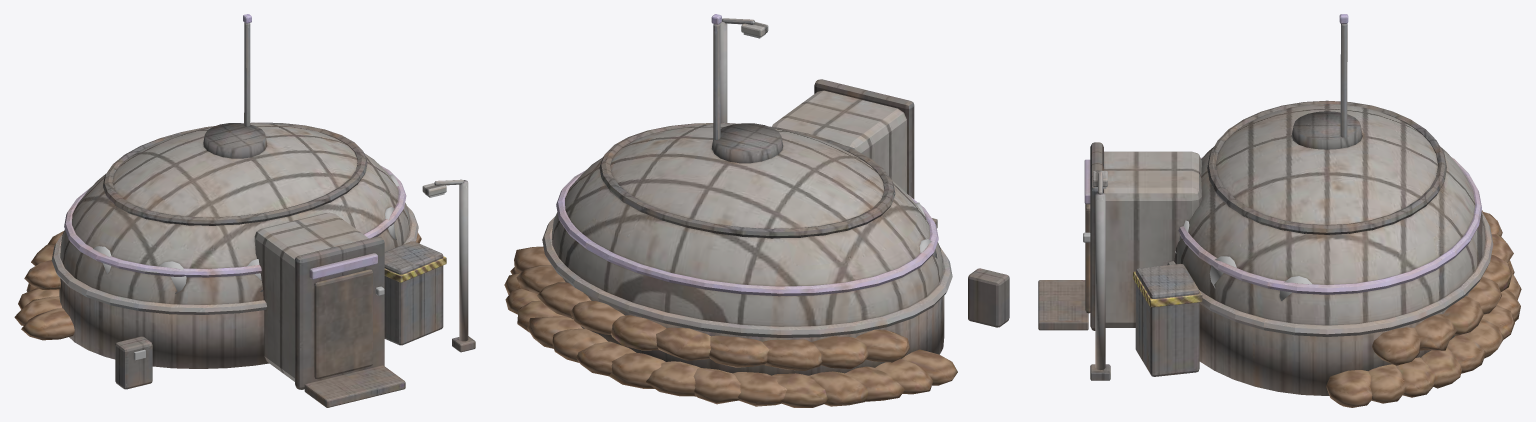
The model's file is house_1.glb.
3 views of the same model, side by side, from view 1: azimuth 30°, elevation 25°; view 2: azimuth 150°, elevation 25°; view 3: azimuth 270°, elevation 25° (orthographic). The views are drawn at different scales.
Parts seen in each view (by area): view 1: house_1, Glow; view 2: house_1; view 3: house_1, Glow.
Boxes of the visible parts, <box> form: house_1: <box>14,14,475,407</box>; Glow: <box>93,174,444,360</box>; house_1: <box>504,14,1009,407</box>; house_1: <box>1038,14,1521,407</box>; Glow: <box>1083,187,1311,300</box>.
Bounding box in the file's own units: 2.99 × 2.02 × 2.88.
3 materials, 1 textured.
